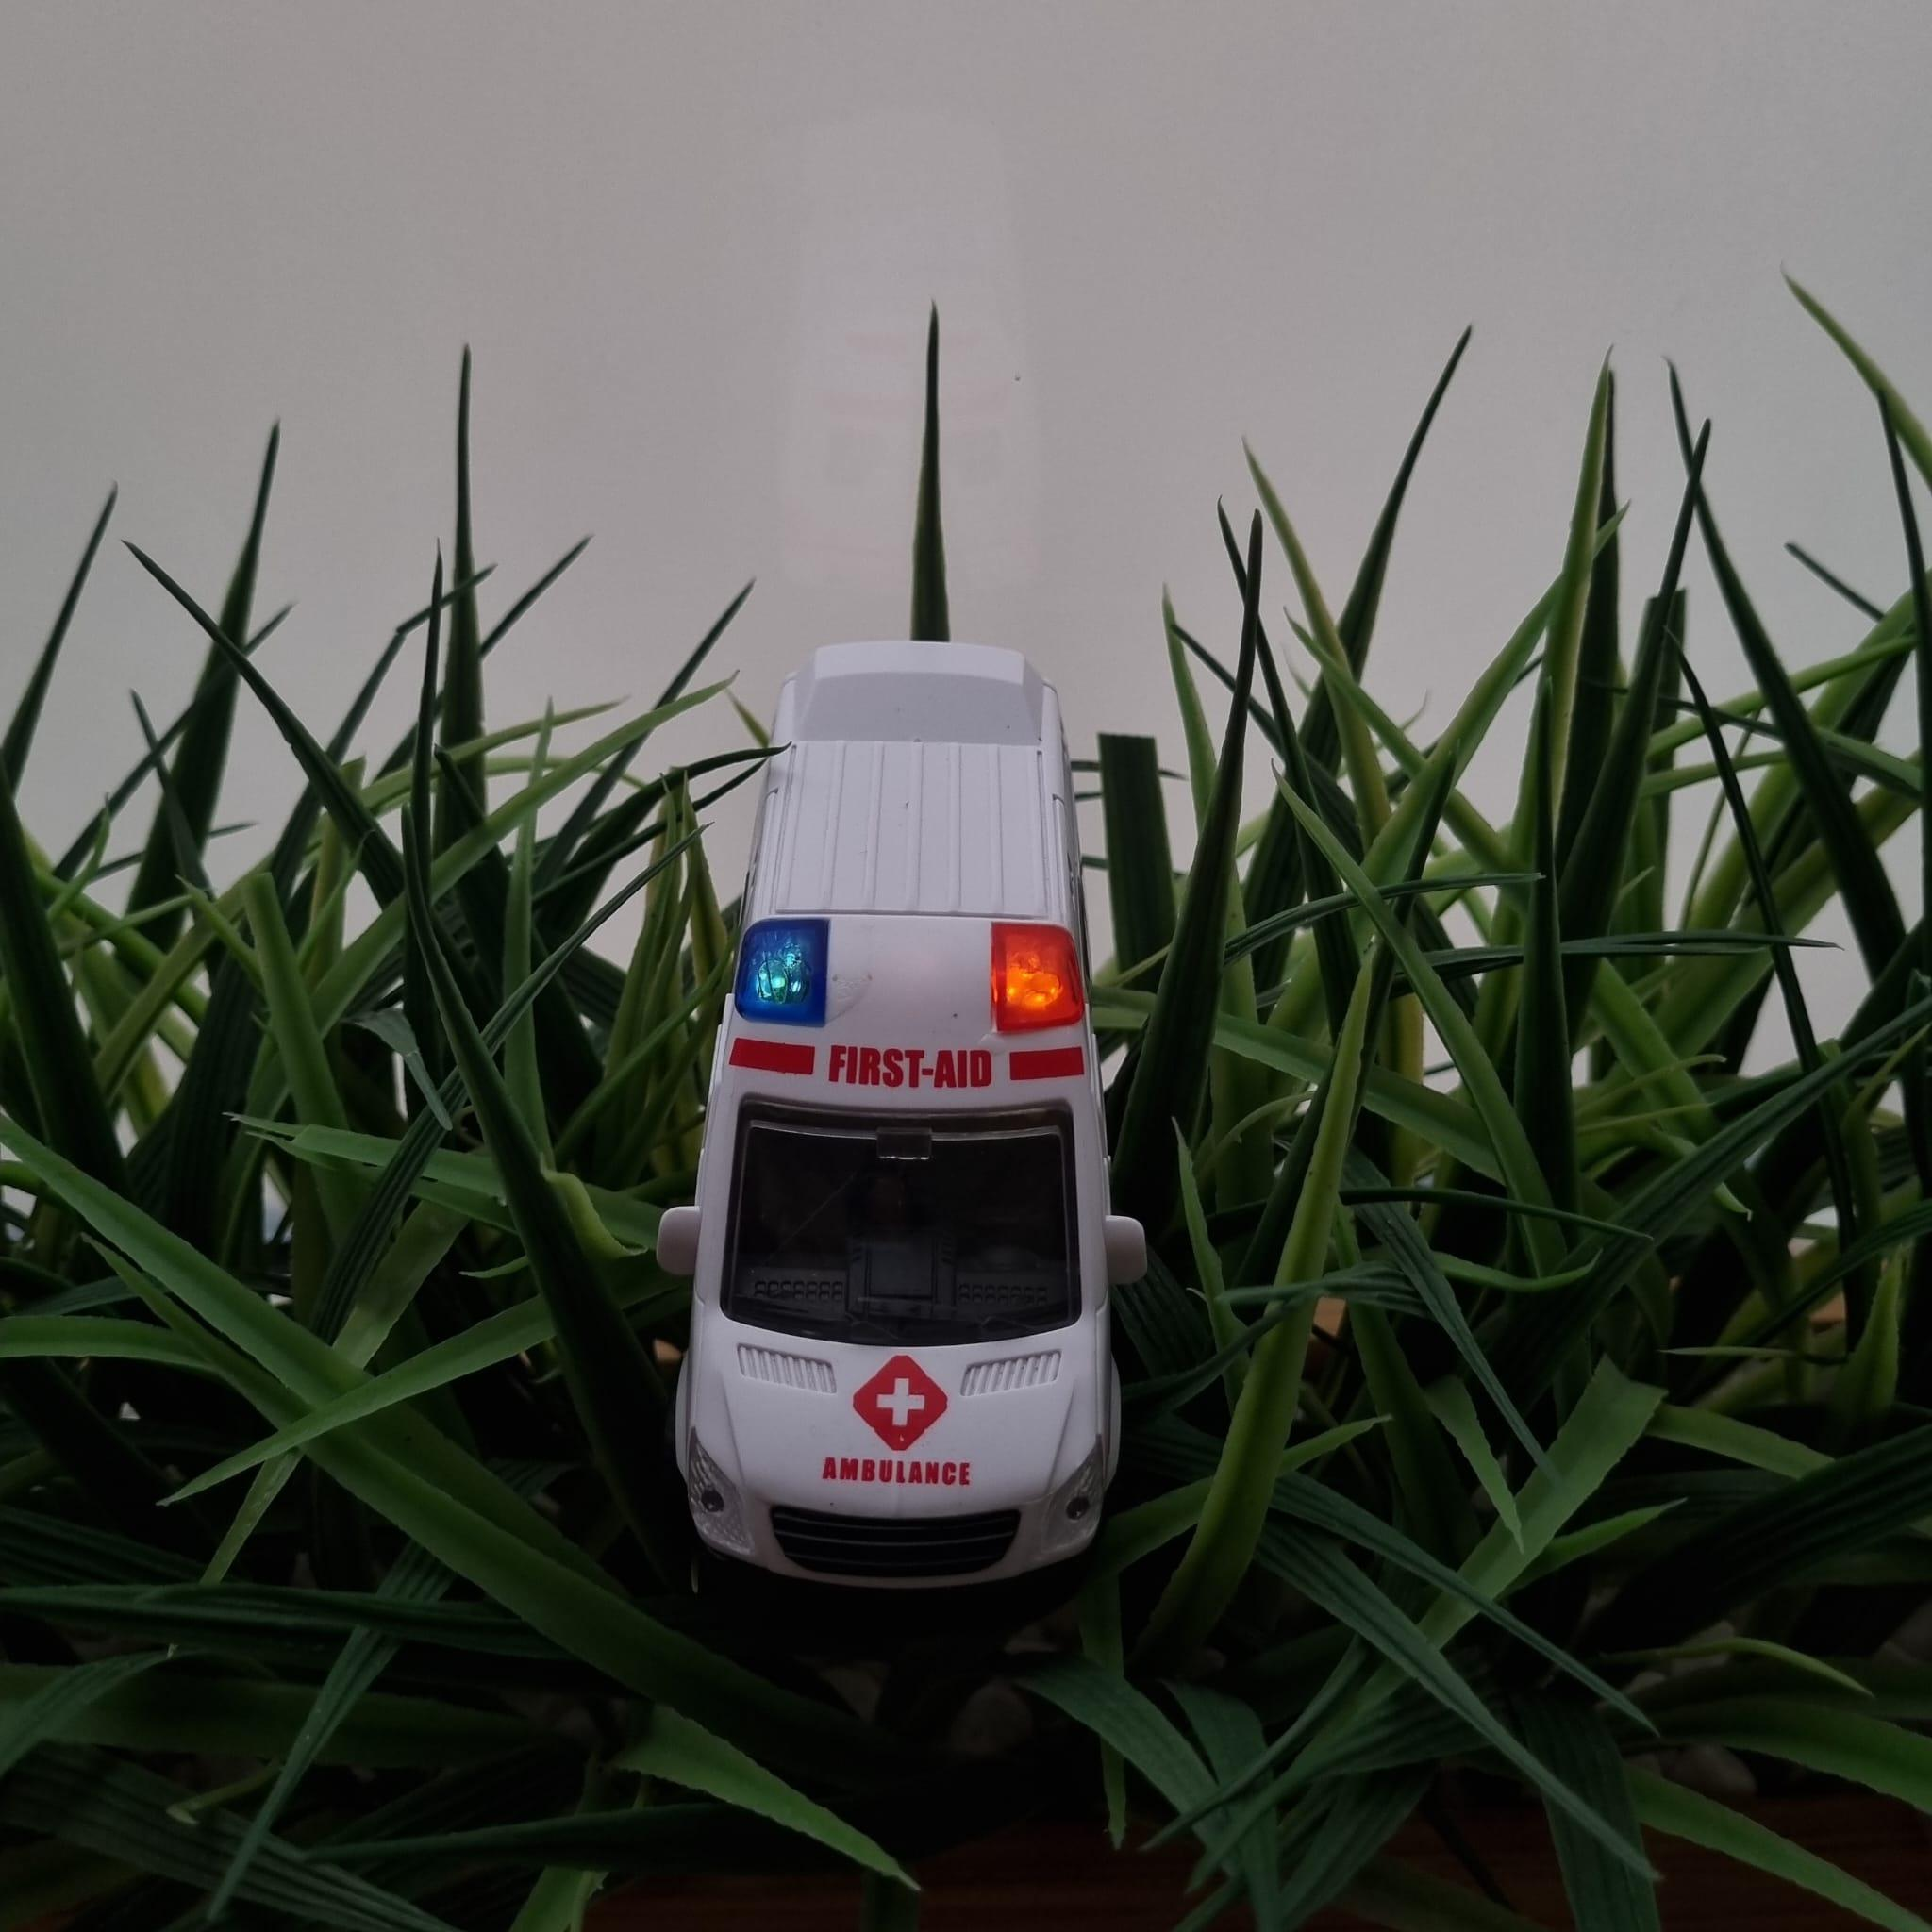ambulance_on: (648, 633, 1157, 1635)
